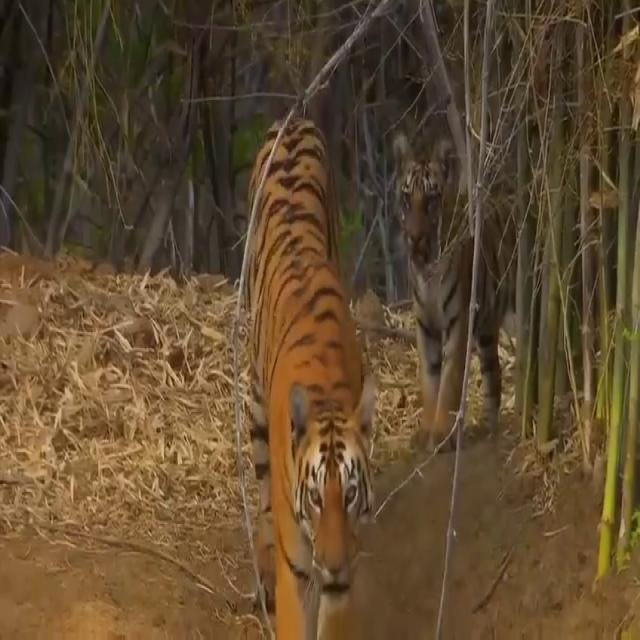tiger: (245, 114, 375, 640), (390, 125, 517, 458)
